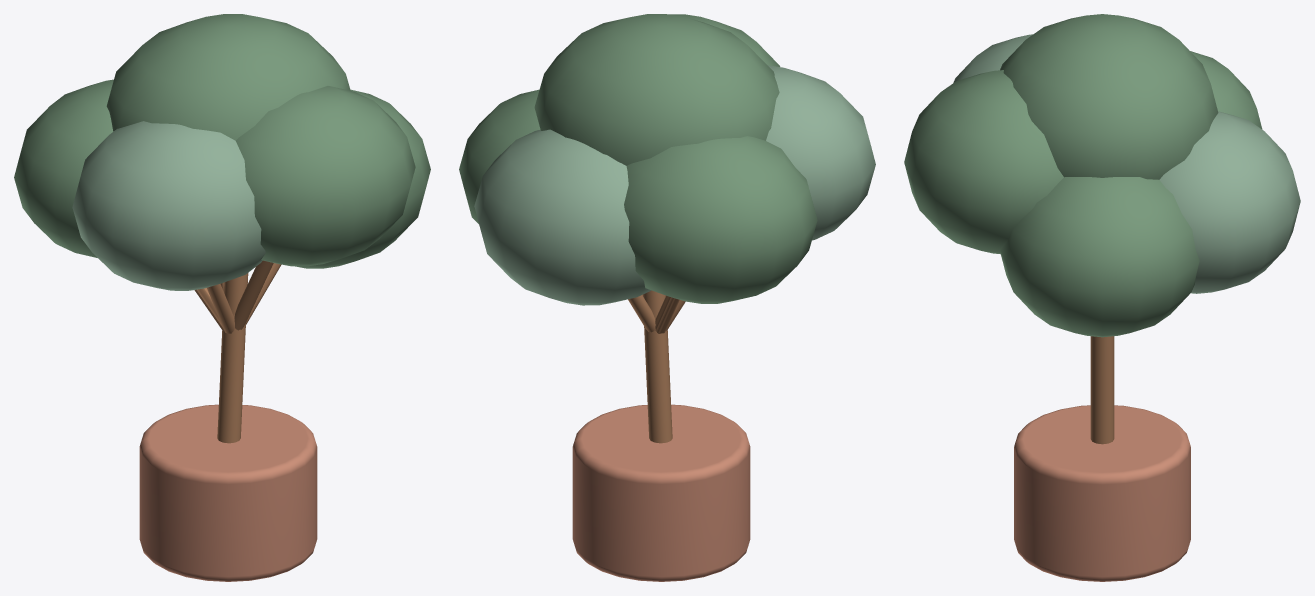
The model's file is potted_tree.glb.
3 views of the same model, side by side, from view 1: azimuth 30°, elevation 25°; view 2: azimuth 150°, elevation 25°; view 3: azimuth 270°, elevation 25° (orthographic).
Visible parts, largest first — view 1: Body_leaf, Body_clay, Body_sage, Body_wood; view 2: Body_leaf, Body_sage, Body_clay, Body_wood; view 3: Body_leaf, Body_clay, Body_sage, Body_wood.
Part boxes in pixels (x1,y1,x2,y2): Body_leaf: [14, 14, 430, 268]; Body_clay: [139, 404, 317, 581]; Body_sage: [72, 121, 265, 290]; Body_wood: [194, 260, 281, 443]; Body_leaf: [459, 14, 817, 303]; Body_sage: [474, 65, 875, 305]; Body_clay: [572, 404, 750, 581]; Body_wood: [628, 290, 685, 443]; Body_leaf: [904, 14, 1262, 337]; Body_clay: [1014, 405, 1190, 581]; Body_sage: [953, 34, 1300, 293]; Body_wood: [1090, 336, 1114, 444].
Size of the model in its own units: 1.6 by 2.2 by 1.52.
